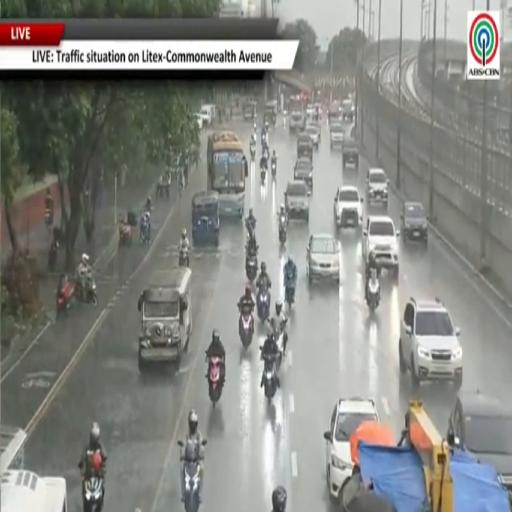bus: (0, 426, 67, 511), (207, 132, 247, 218), (0, 471, 67, 511), (0, 425, 26, 474)
car: (447, 391, 511, 492), (399, 298, 462, 389), (324, 397, 380, 499), (362, 216, 399, 278), (307, 234, 339, 283), (334, 186, 363, 228), (401, 202, 428, 244), (285, 181, 309, 220), (366, 168, 389, 204), (294, 157, 312, 190), (342, 137, 359, 170), (305, 123, 320, 148), (330, 123, 344, 149), (289, 111, 305, 133), (307, 121, 321, 141), (342, 99, 354, 122), (313, 103, 322, 121), (195, 114, 203, 130), (306, 104, 314, 117)
jeepney: (138, 267, 192, 372), (192, 190, 220, 246), (297, 133, 312, 159), (264, 100, 278, 126), (242, 102, 257, 120)
motorcycle: (178, 440, 202, 511), (83, 451, 104, 511), (270, 319, 287, 371), (207, 357, 224, 407), (262, 352, 278, 404), (75, 272, 97, 306), (57, 276, 75, 316), (84, 475, 103, 511), (239, 311, 254, 348), (367, 269, 380, 311), (256, 285, 270, 321), (285, 269, 296, 307), (48, 238, 59, 271), (246, 252, 257, 281), (119, 223, 132, 246), (140, 219, 149, 245), (279, 216, 287, 244), (179, 249, 189, 267), (45, 208, 53, 228), (271, 162, 276, 179), (250, 144, 255, 161), (261, 168, 266, 184)
